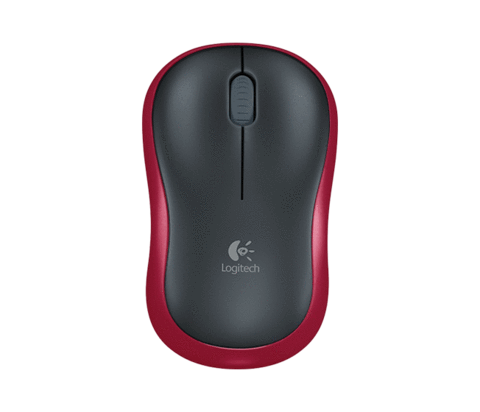logitech-mouse-m185: (142, 42, 339, 372)
